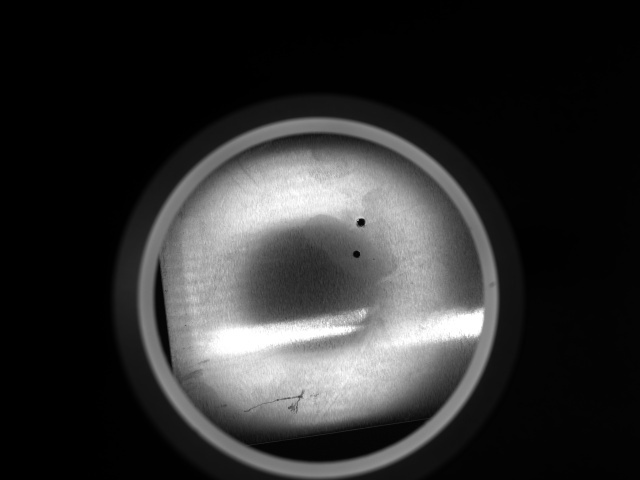ca_shang: (233, 387, 315, 411)
zhen_kong: (350, 246, 368, 265), (351, 213, 370, 229)
